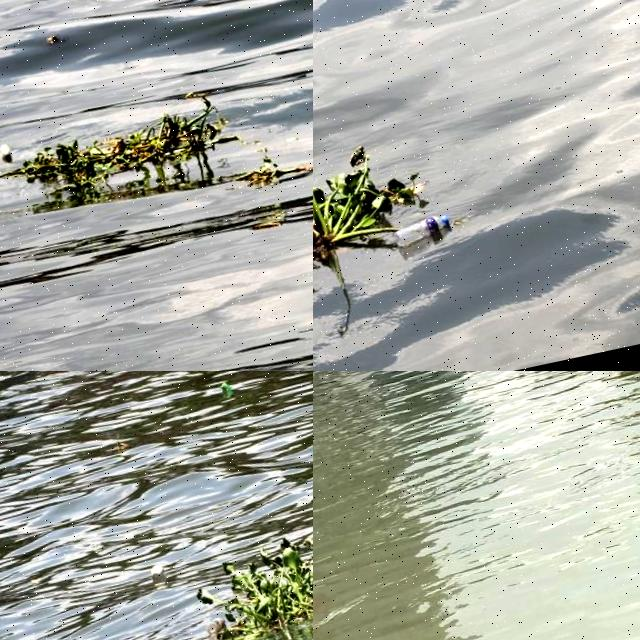plastic bottle: (393, 213, 450, 248)
water-hyacinth: (314, 146, 473, 331), (15, 100, 238, 196), (191, 531, 314, 640), (487, 372, 577, 400)
